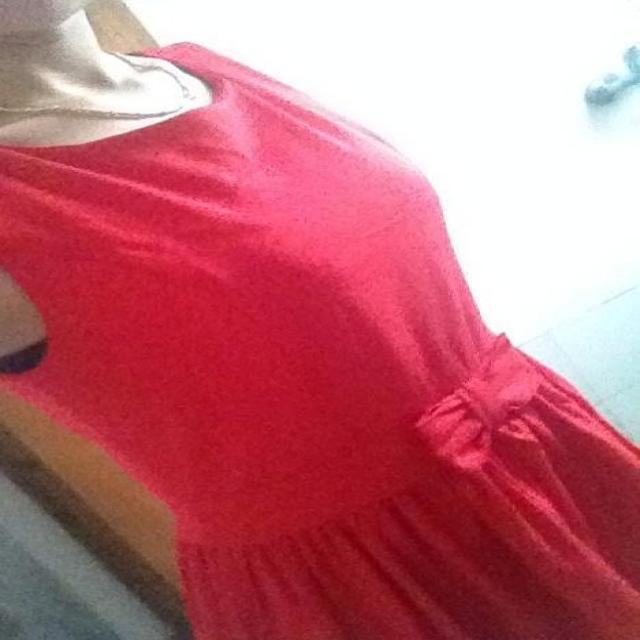short-sleeve-dress: (11, 71, 631, 624)
